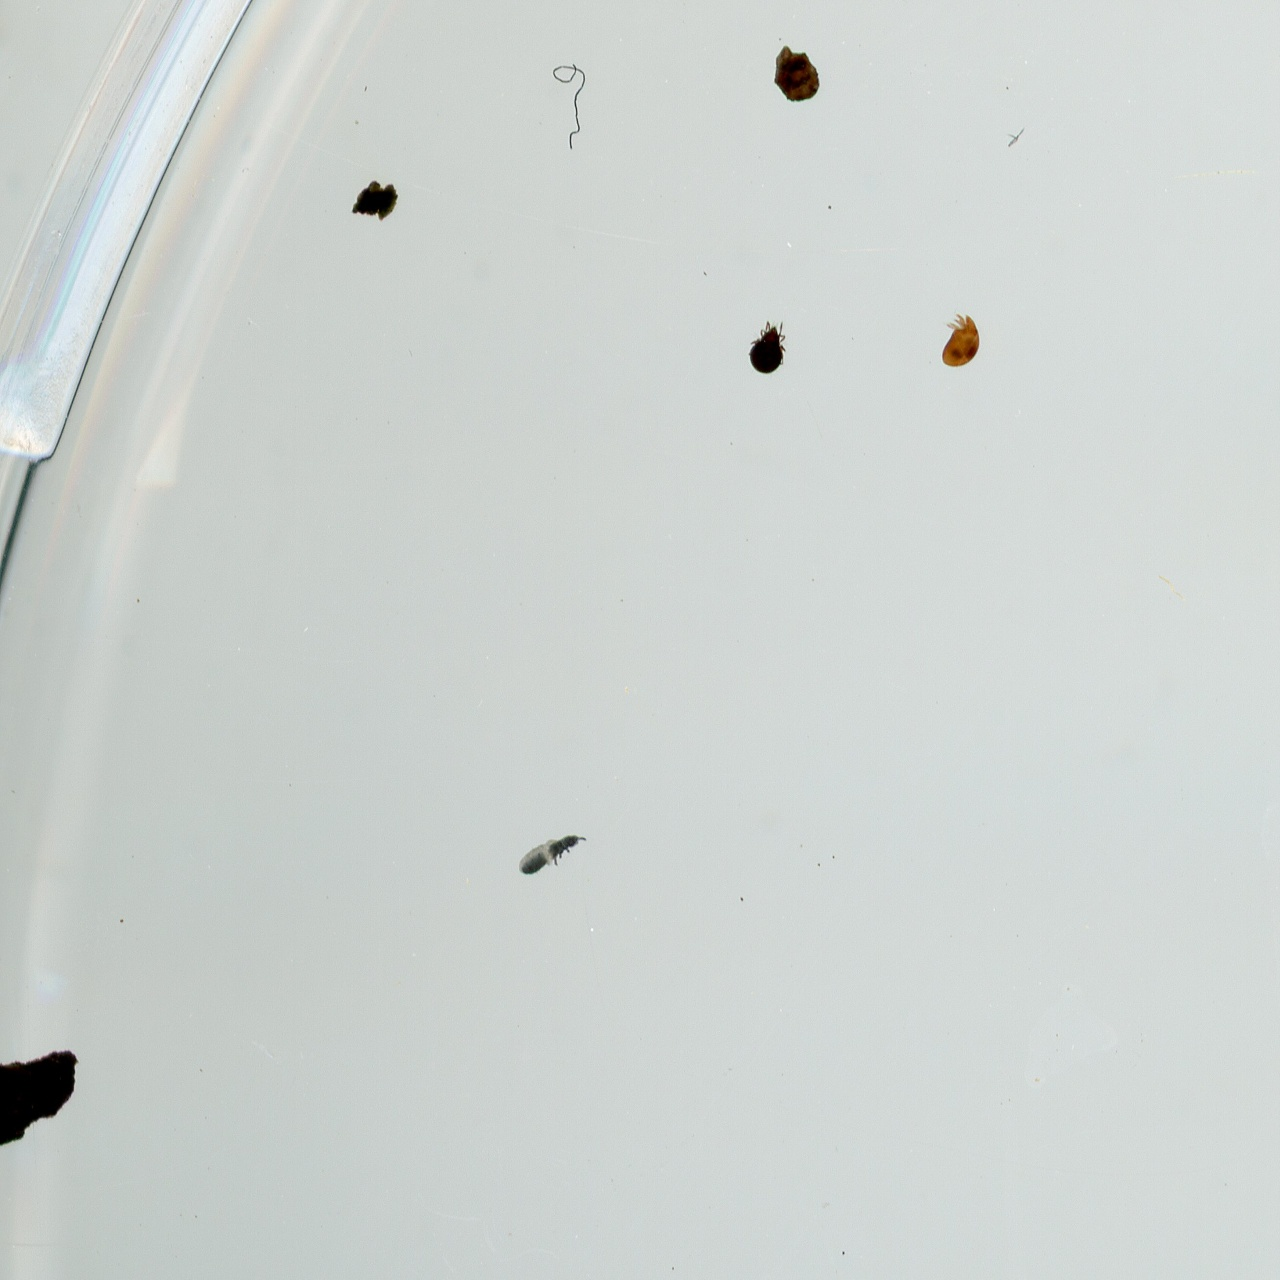arthropod: (512, 829, 588, 884), (937, 311, 985, 374), (746, 318, 790, 375)
